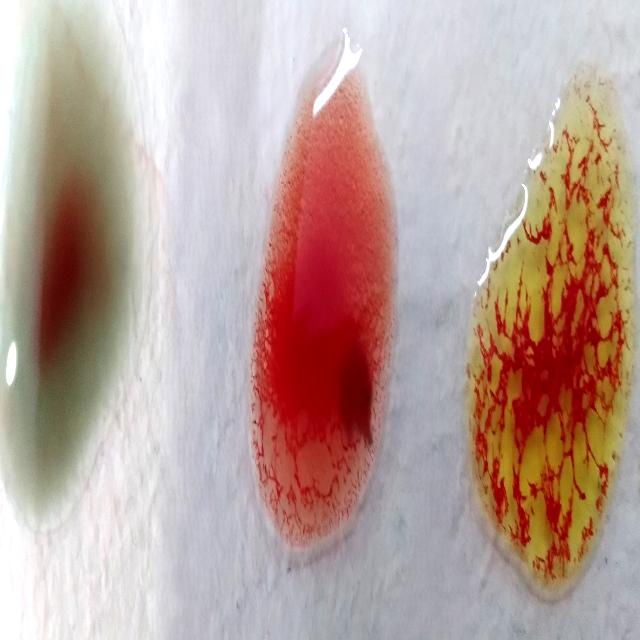B: (480, 75, 629, 592)
D: (253, 46, 399, 538)
